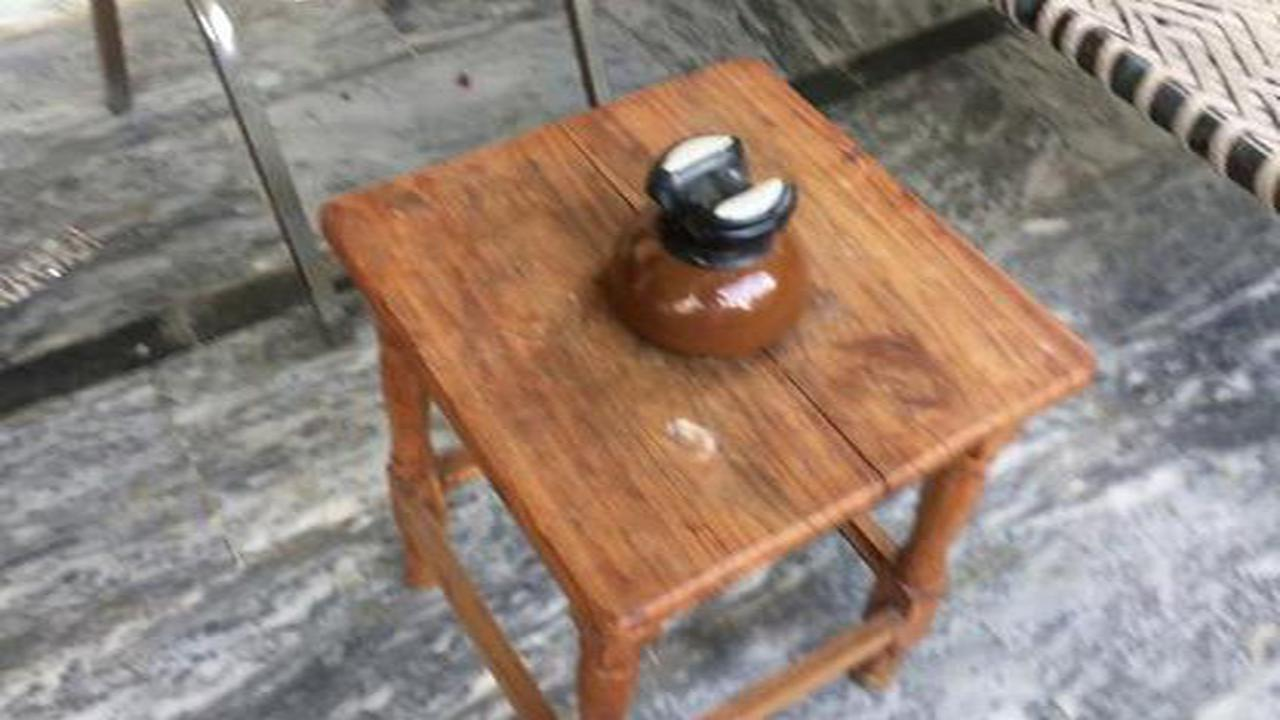insulator_pin: (579, 120, 825, 380)
